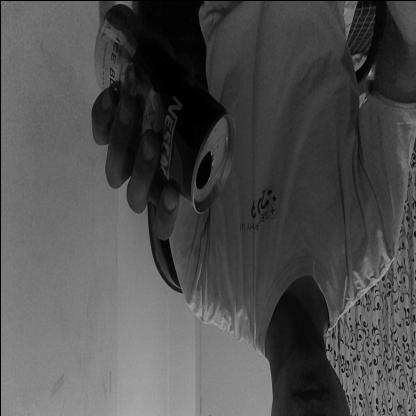alumunium_can: (91, 0, 234, 216)
